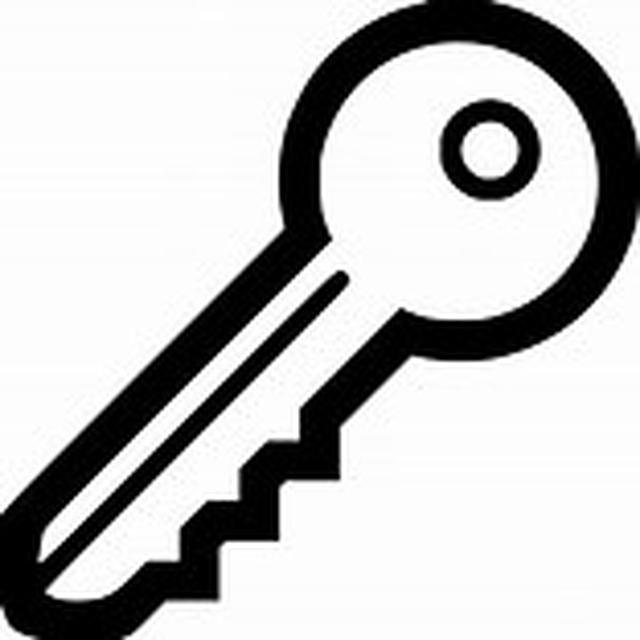key: (6, 22, 628, 636)
